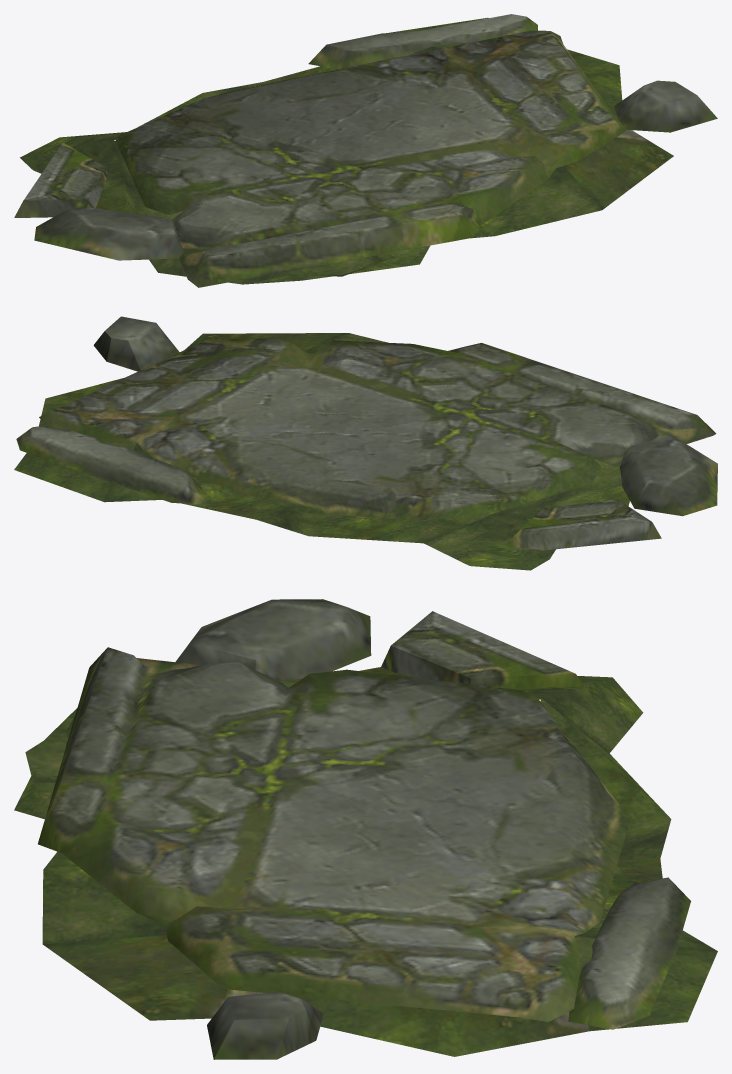
The model's file is 4007_Item_shitou_3.FBX.
The picture shows the model from 3 angles, top to bottom: view 1: azimuth 30°, elevation 25°; view 2: azimuth 150°, elevation 25°; view 3: azimuth 270°, elevation 25°; orthographic projection. The views are drawn at different scales.
Visible parts, largest first — view 1: 4007_Item_shitou_3; view 2: 4007_Item_shitou_3; view 3: 4007_Item_shitou_3.
Boxes of the visible parts, x1,y1,x2,y2 form: 4007_Item_shitou_3: [14, 14, 717, 287]; 4007_Item_shitou_3: [14, 316, 717, 570]; 4007_Item_shitou_3: [14, 599, 717, 1059].
Bounding box in the file's own units: 379 × 21.75 × 251.
